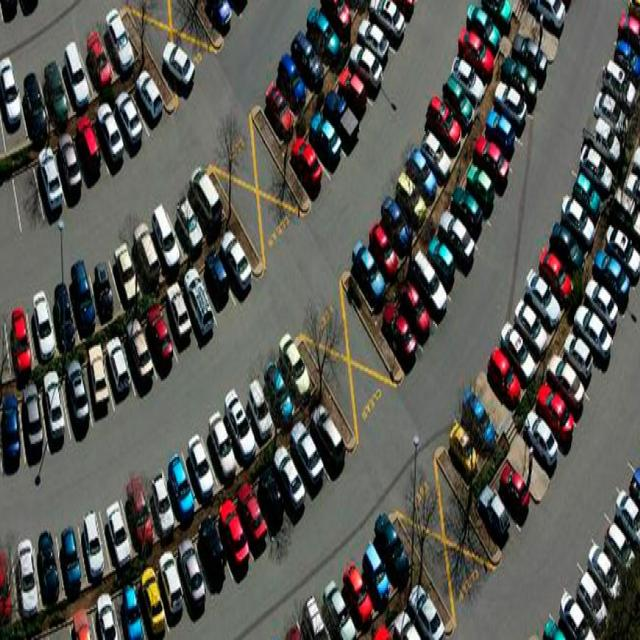ocupado: (0, 331, 353, 636), (345, 5, 573, 369), (482, 0, 639, 485), (1, 228, 257, 479), (0, 156, 229, 391), (262, 0, 419, 206), (29, 55, 170, 222), (275, 503, 449, 633), (0, 4, 139, 165), (533, 453, 639, 637), (437, 379, 539, 557)
